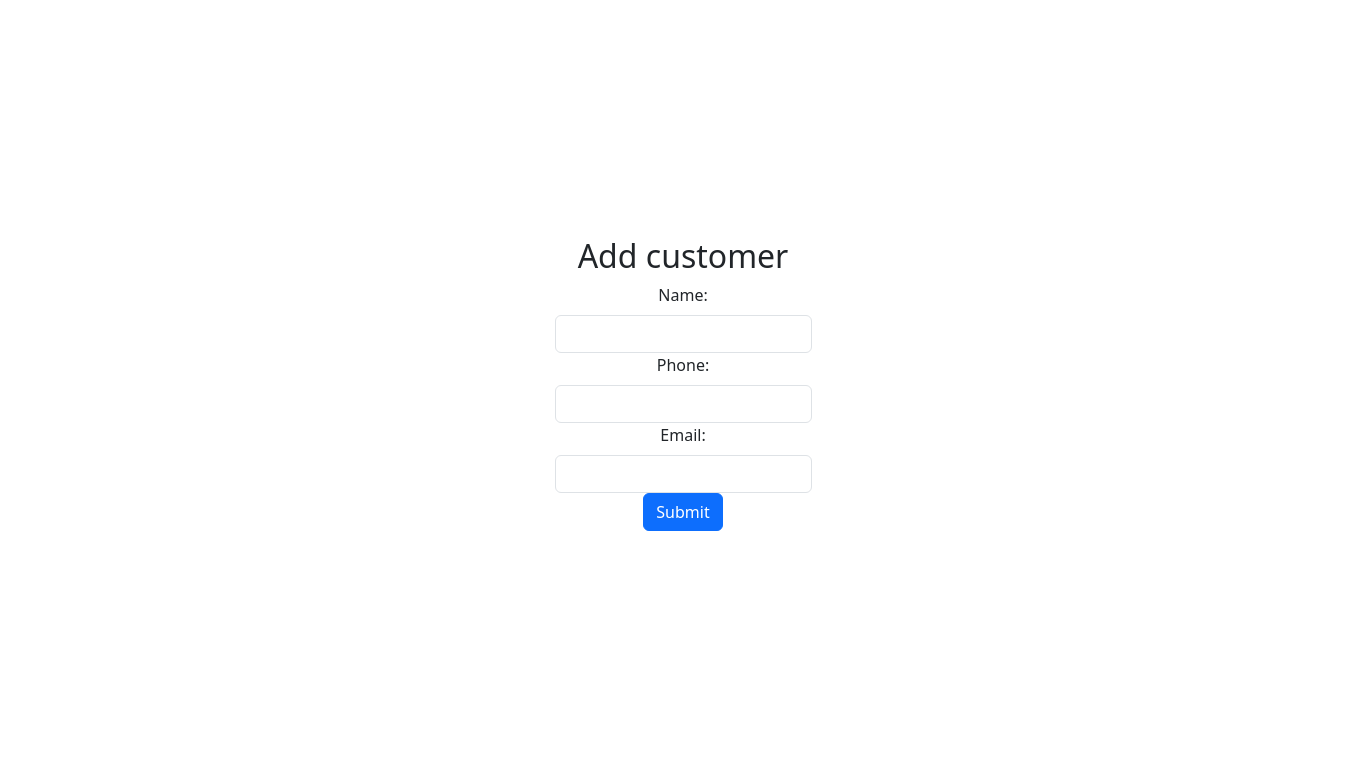
Test: CustomerForm › submits form successfully when fields are filled
Type "John Doe" into the field labelled "Name:" at (683, 334), box [554,315,812,353]
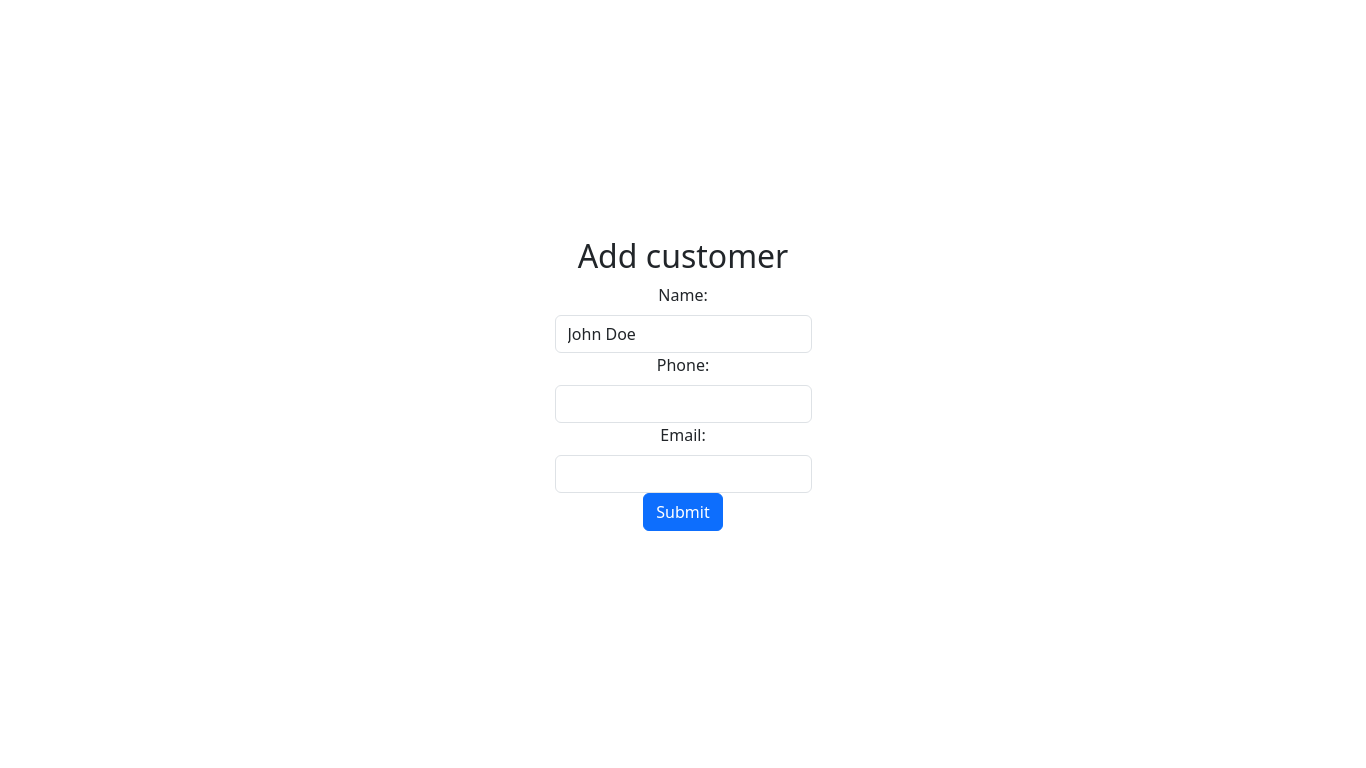
Type "1234567890" into the field labelled "Phone:" at (683, 404), box [554,385,812,423]
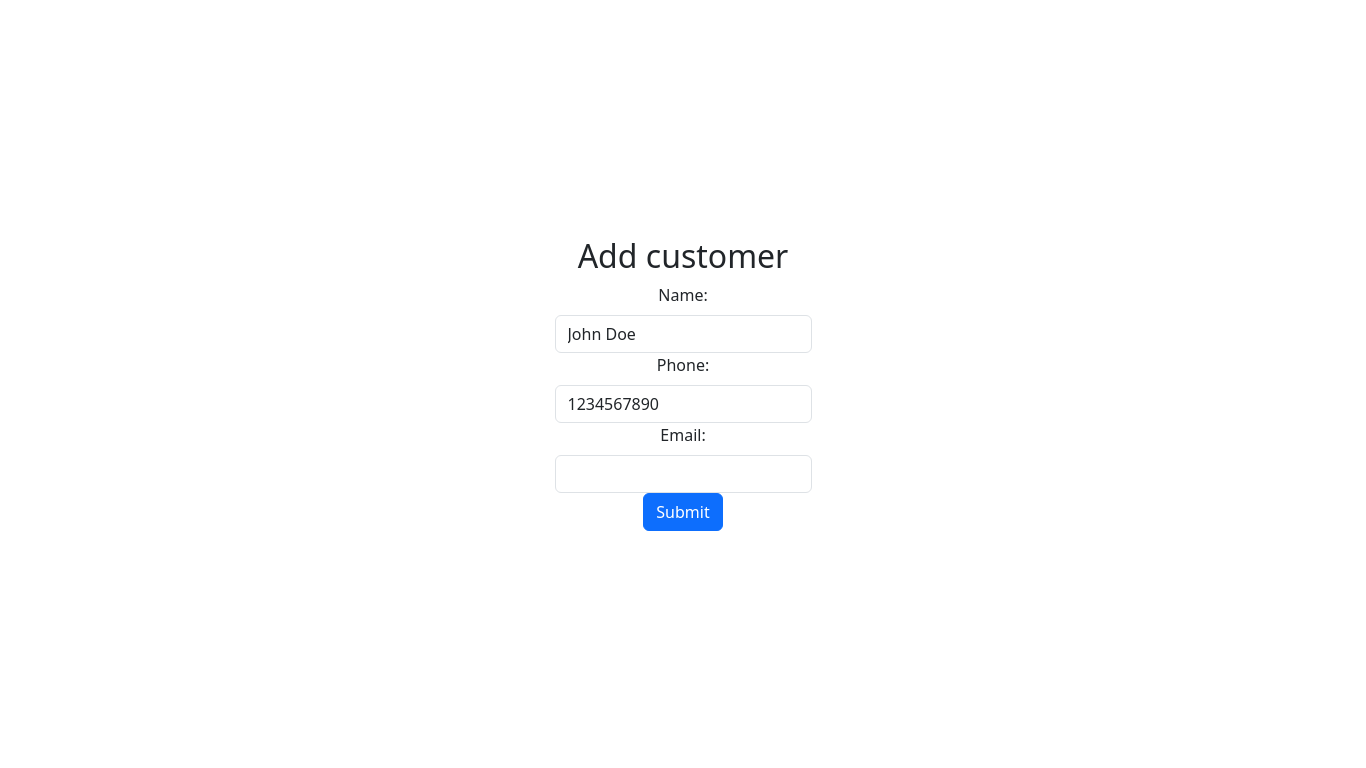
Type "john@example.com" into the field labelled "Email:" at (683, 474), box [554,455,812,493]
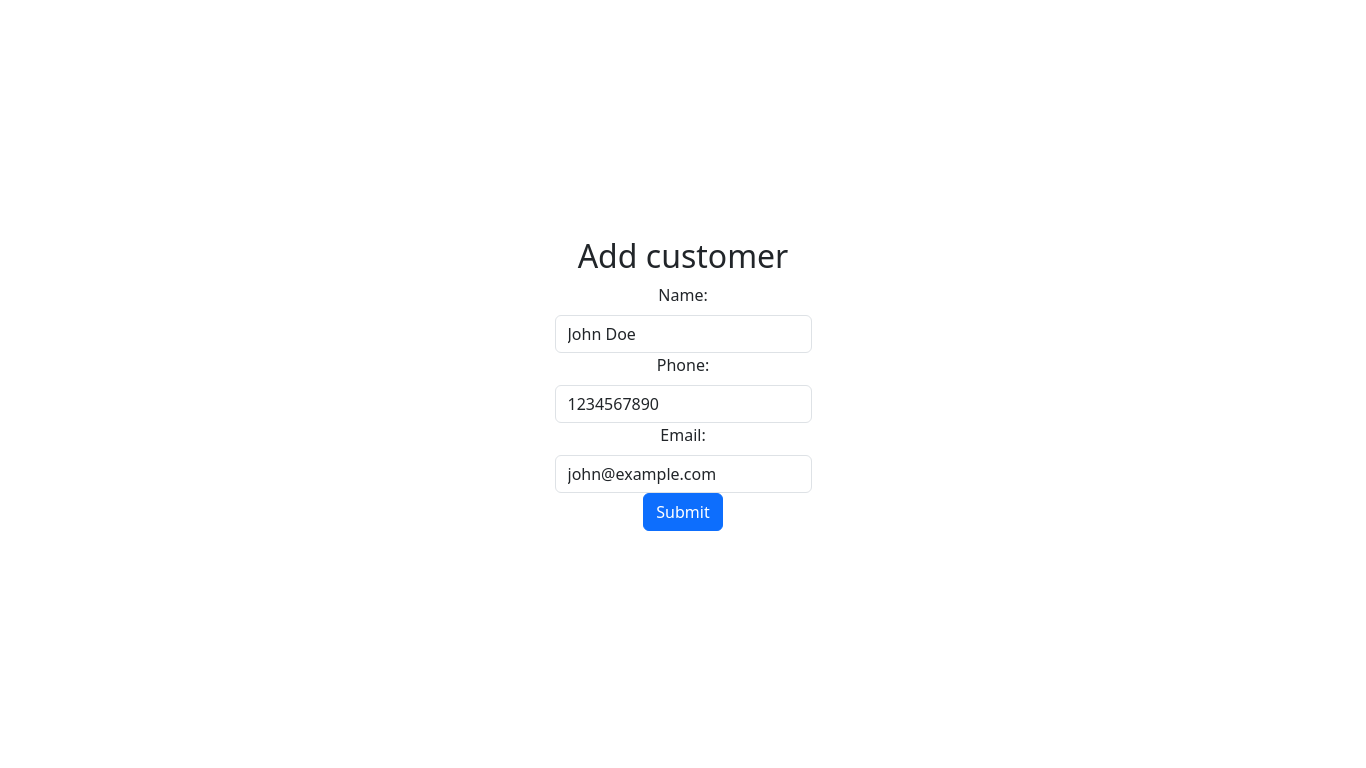
Click the button "Submit" at (683, 512), box [643,493,723,531]
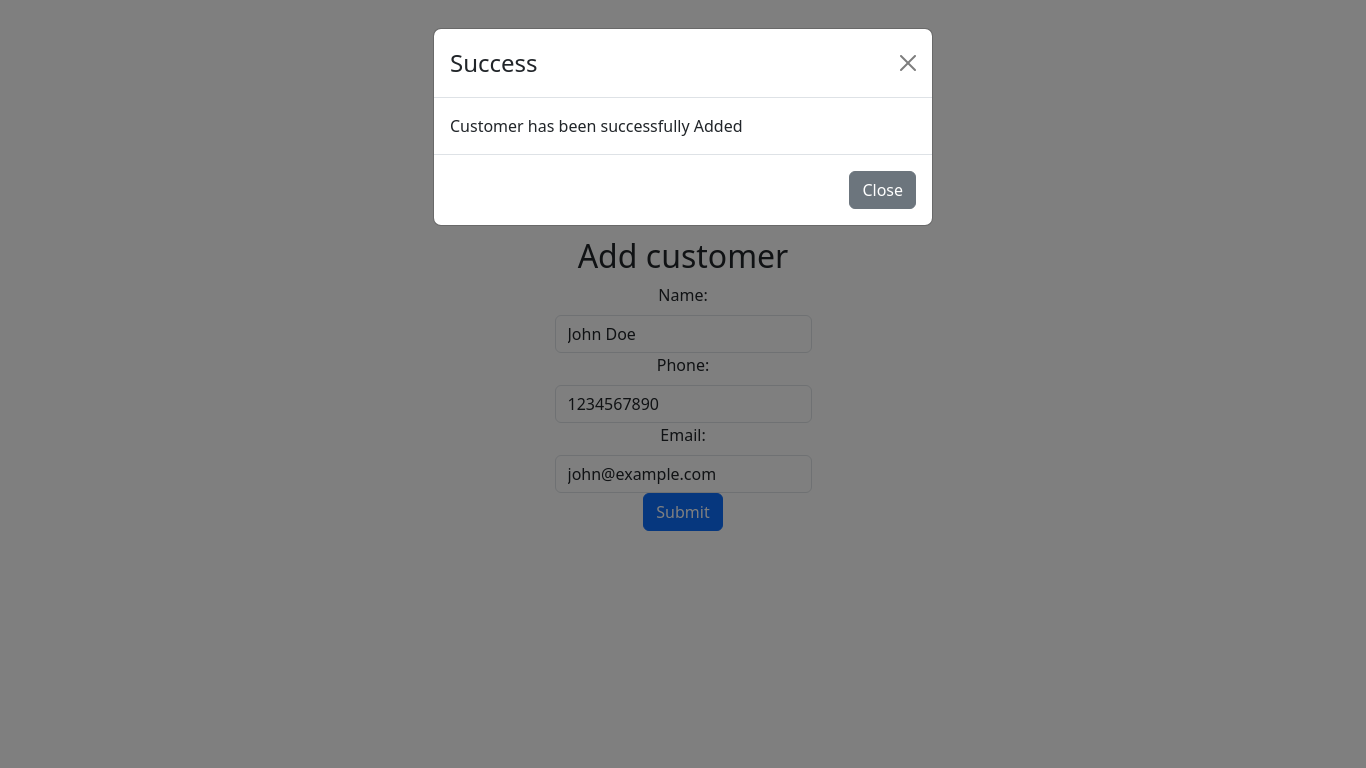
Expected: the text "Customer has been successfully Added" is shown, [450,115,742,137]
